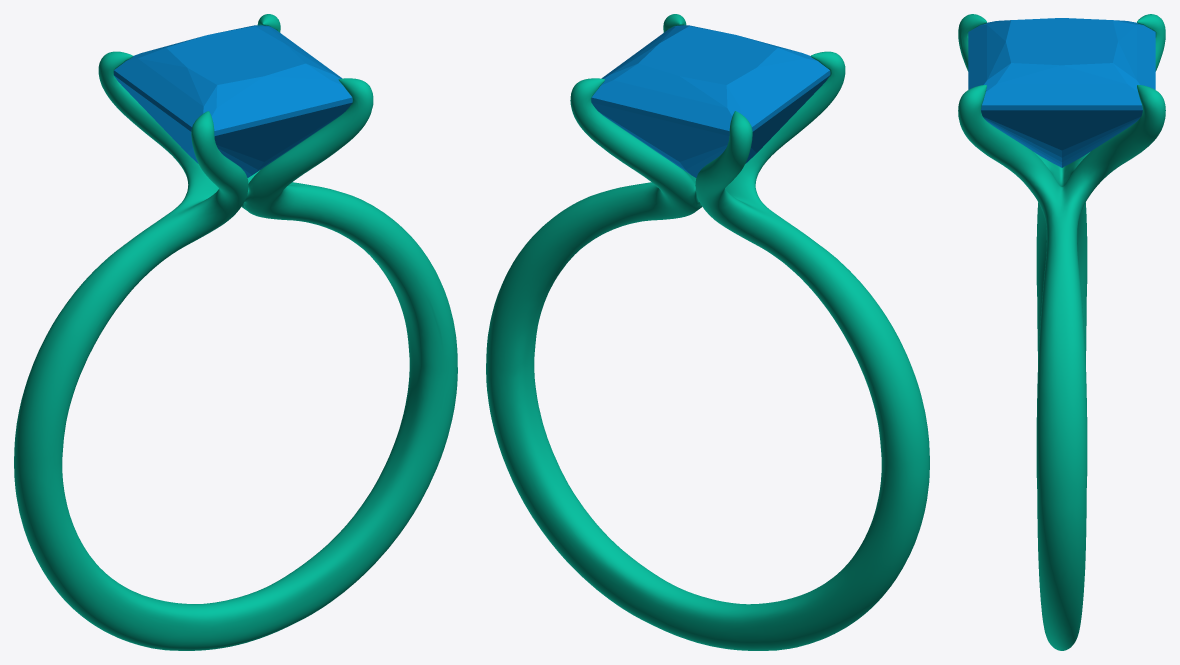
The model's file is BE1343_PR_200ct_RENDER.glb.
The picture shows the model from 3 angles, left to right: view 1: azimuth 30°, elevation 25°; view 2: azimuth 150°, elevation 25°; view 3: azimuth 270°, elevation 25°; orthographic projection.
Visible parts, largest first — view 1: Metal 01, CS_Diamond_Princess; view 2: Metal 01, CS_Diamond_Princess; view 3: Metal 01, CS_Diamond_Princess.
Boxes of the visible parts, x1,y1,x2,y2 form: Metal 01: (14, 14, 457, 650); CS_Diamond_Princess: (113, 25, 352, 177); Metal 01: (486, 14, 929, 650); CS_Diamond_Princess: (591, 25, 830, 177); Metal 01: (958, 14, 1165, 650); CS_Diamond_Princess: (968, 18, 1155, 167).
Bounding box in the file's own units: 20.09 × 25.88 × 8.33.
